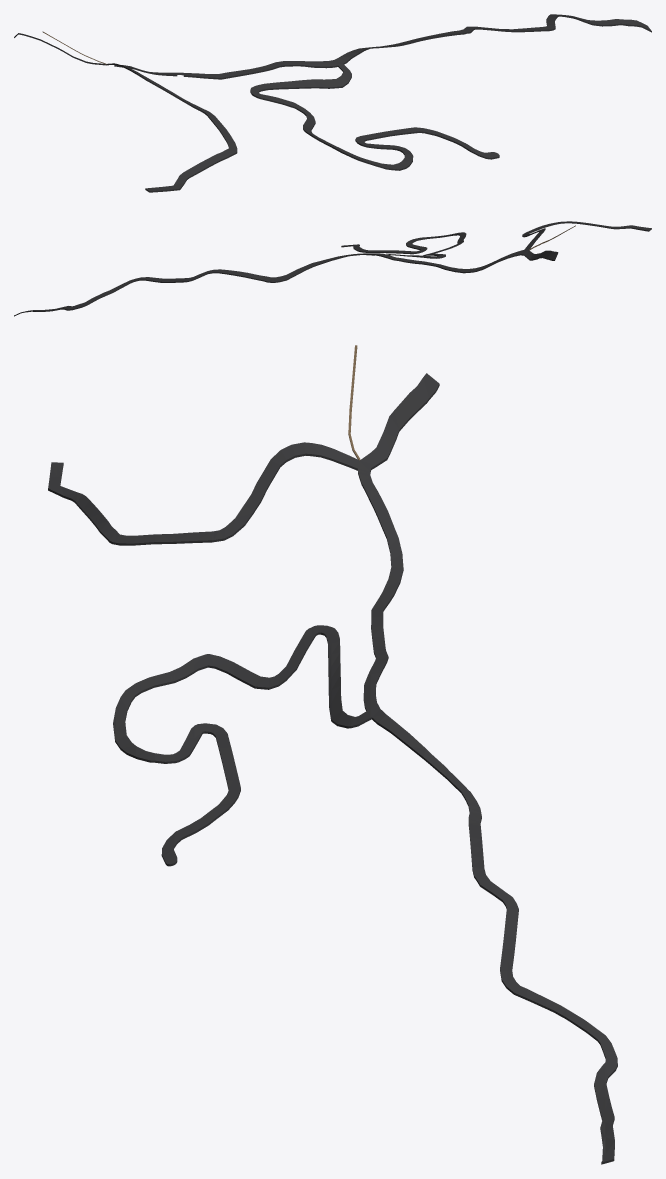
3 views of the same model, one above another, from view 1: azimuth 30°, elevation 25°; view 2: azimuth 150°, elevation 25°; view 3: azimuth 270°, elevation 25° (orthographic). The views are drawn at different scales.
Size of the model in its own units: 587 by 188 by 291.
